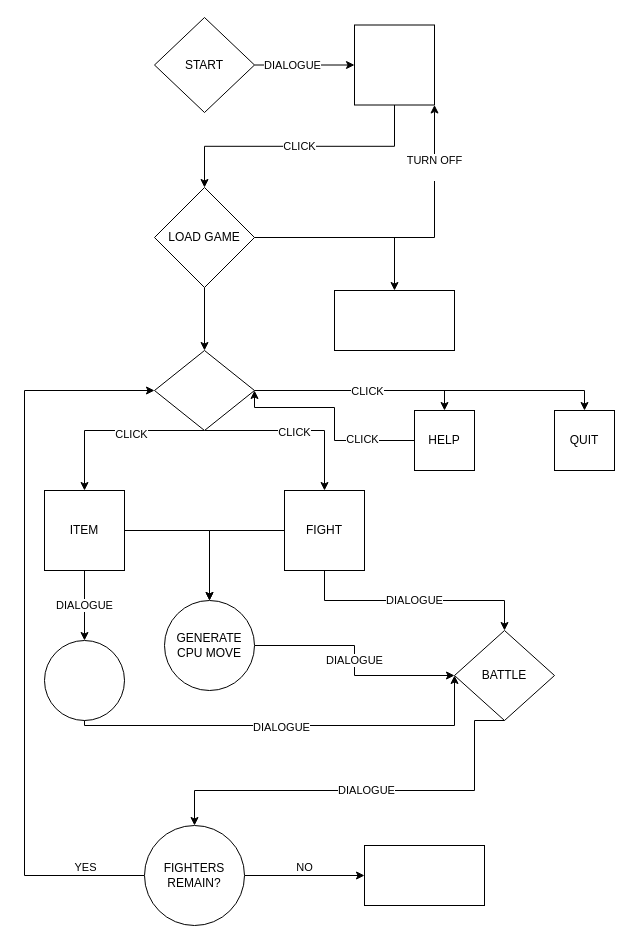
The diagram is 632 pixels wide and 943 high, and some of its shapes have lost their labels. Each missing label, with the centre of its shape:
"ITEM EFFECT" belongs at pixel 84 680.
"MAIN" belongs at pixel 204 390.
"RESULT SCREEN" belongs at pixel 424 875.
"SHOW FIGHTER SPRITES" belongs at pixel 394 320.
"Trainer Sprites" belongs at pixel 394 64.
